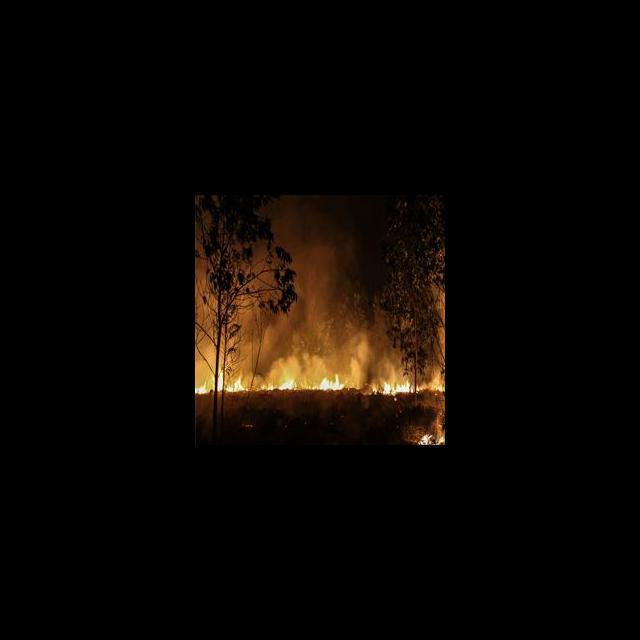Fire: (196, 353, 442, 398)
